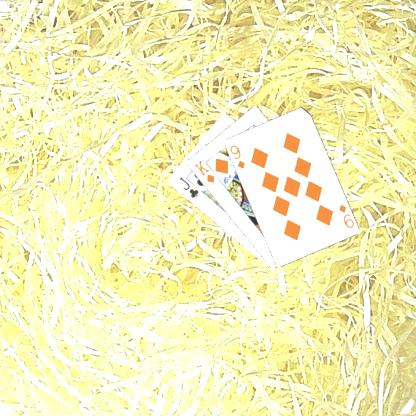9D: (227, 142, 246, 170), (336, 202, 354, 230)
JC: (176, 174, 200, 200)
KD: (192, 157, 216, 185)
